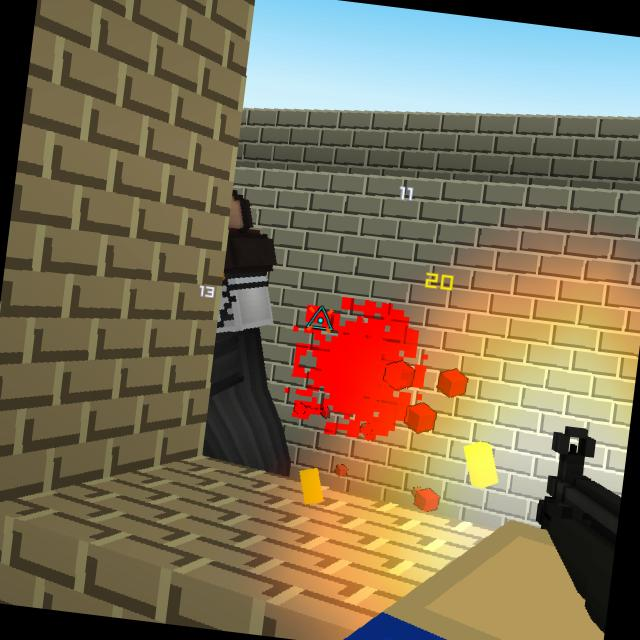enemy: (198, 186, 329, 476)
